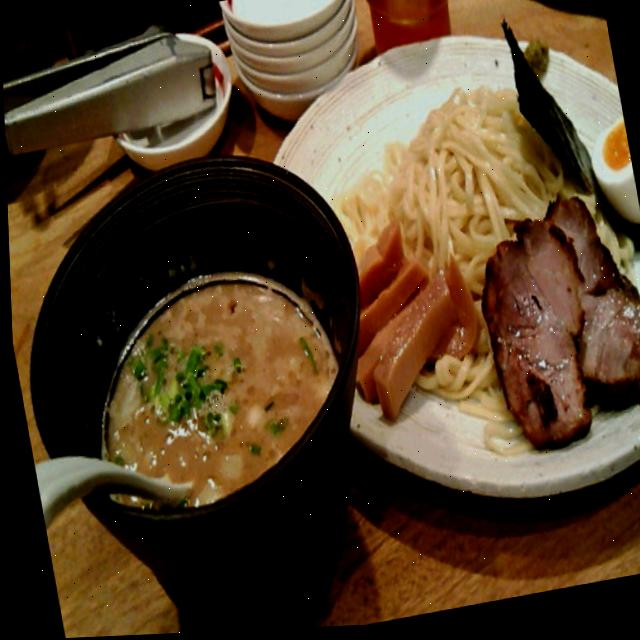面条主食: (44, 65, 640, 590)
